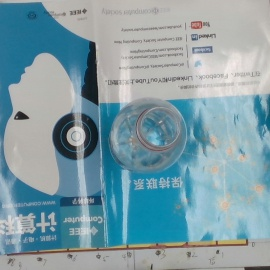bottle: (107, 97, 188, 171)
